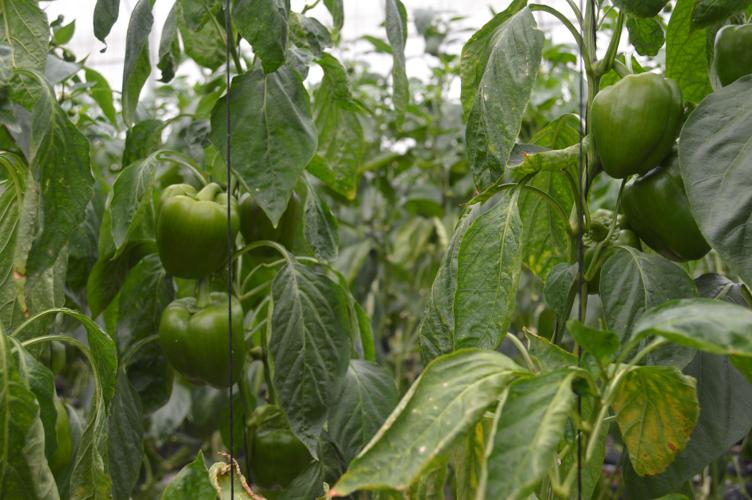BellPepper: (578, 67, 679, 177), (141, 176, 242, 285), (623, 165, 719, 275), (162, 297, 267, 381), (241, 403, 314, 494), (242, 178, 324, 258)
